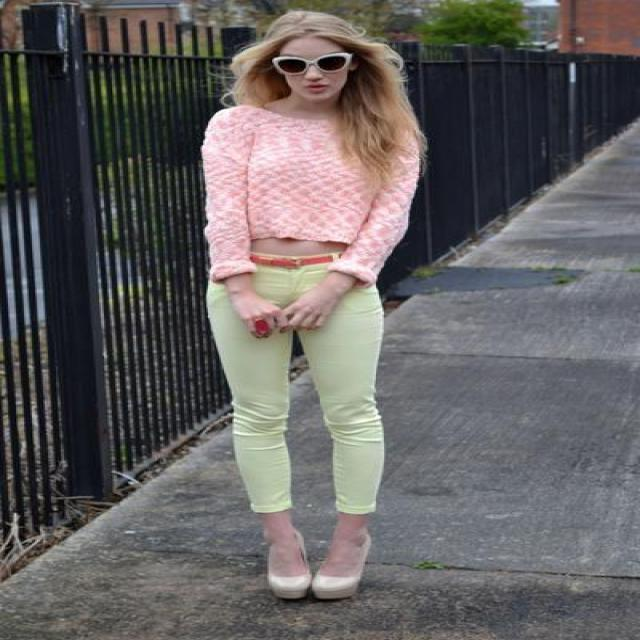jacket: (202, 105, 419, 282)
pants: (206, 261, 382, 513)
shoe: (268, 567, 358, 590)
